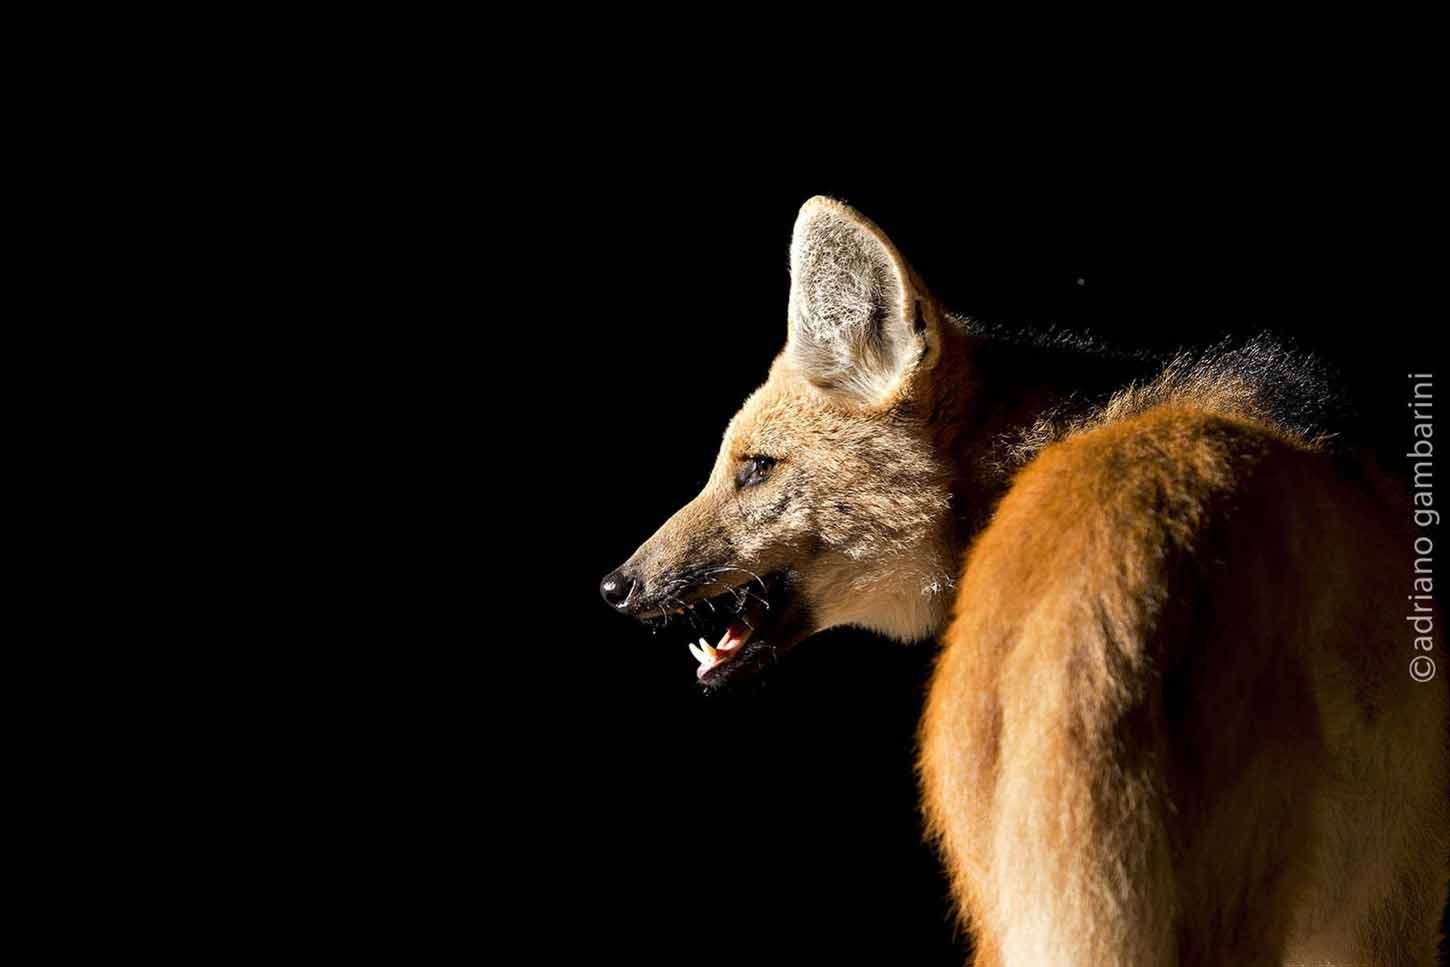LoboGuara: (596, 180, 1384, 934)
